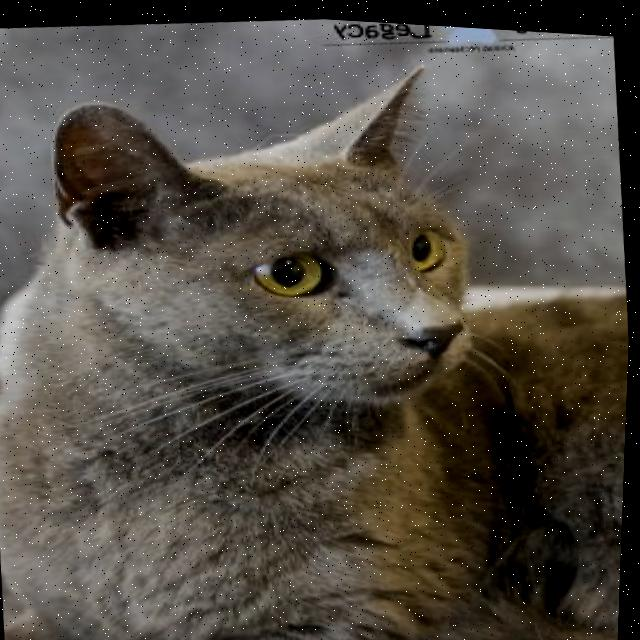Russian Blue: (0, 15, 640, 640)
